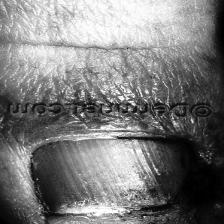Toxin: (16, 131, 224, 224)
